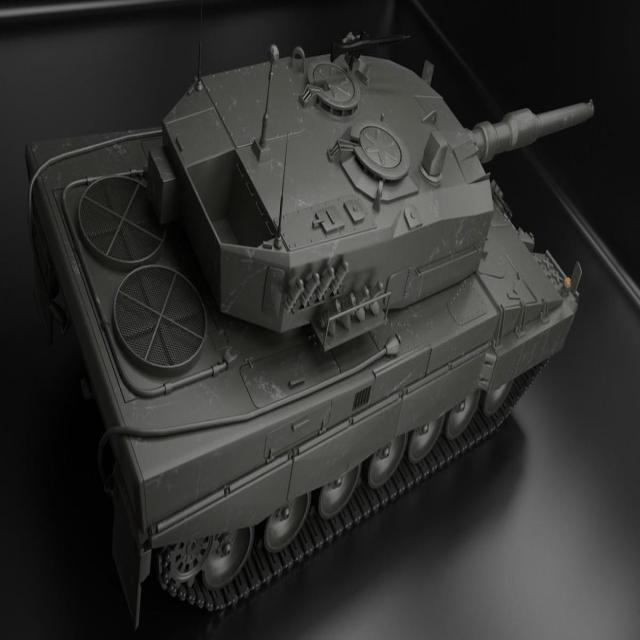MIL_MBT: (14, 51, 560, 620)
